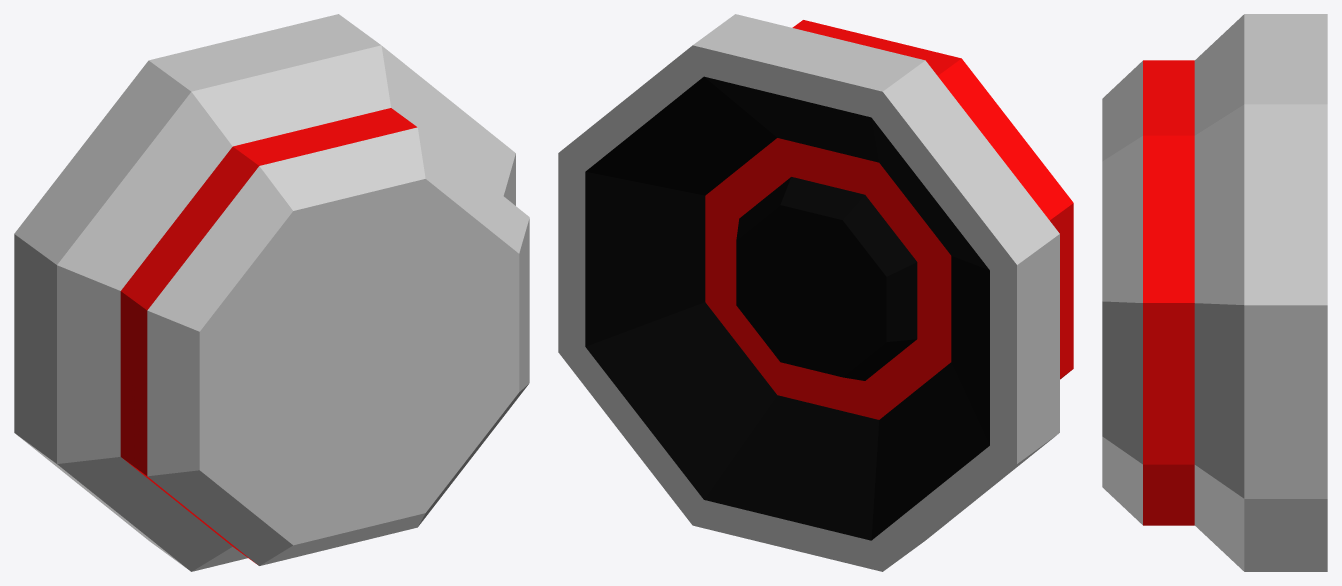
File: EneMissileParge_Vernier.fbx
3 renders of one model, left to right at view 1: azimuth 30°, elevation 25°; view 2: azimuth 150°, elevation 25°; view 3: azimuth 270°, elevation 25°, orthographic. The views are drawn at different scales.
Visible parts, largest first — view 1: PargeMissile_Vernier; view 2: PargeMissile_Vernier; view 3: PargeMissile_Vernier.
Part boxes in pixels (box(x1,y1,x2,y2)): PargeMissile_Vernier: box(14, 14, 529, 571); PargeMissile_Vernier: box(558, 14, 1073, 571); PargeMissile_Vernier: box(1102, 14, 1327, 571).
Size of the model in its own units: 102 by 102 by 44.54.
